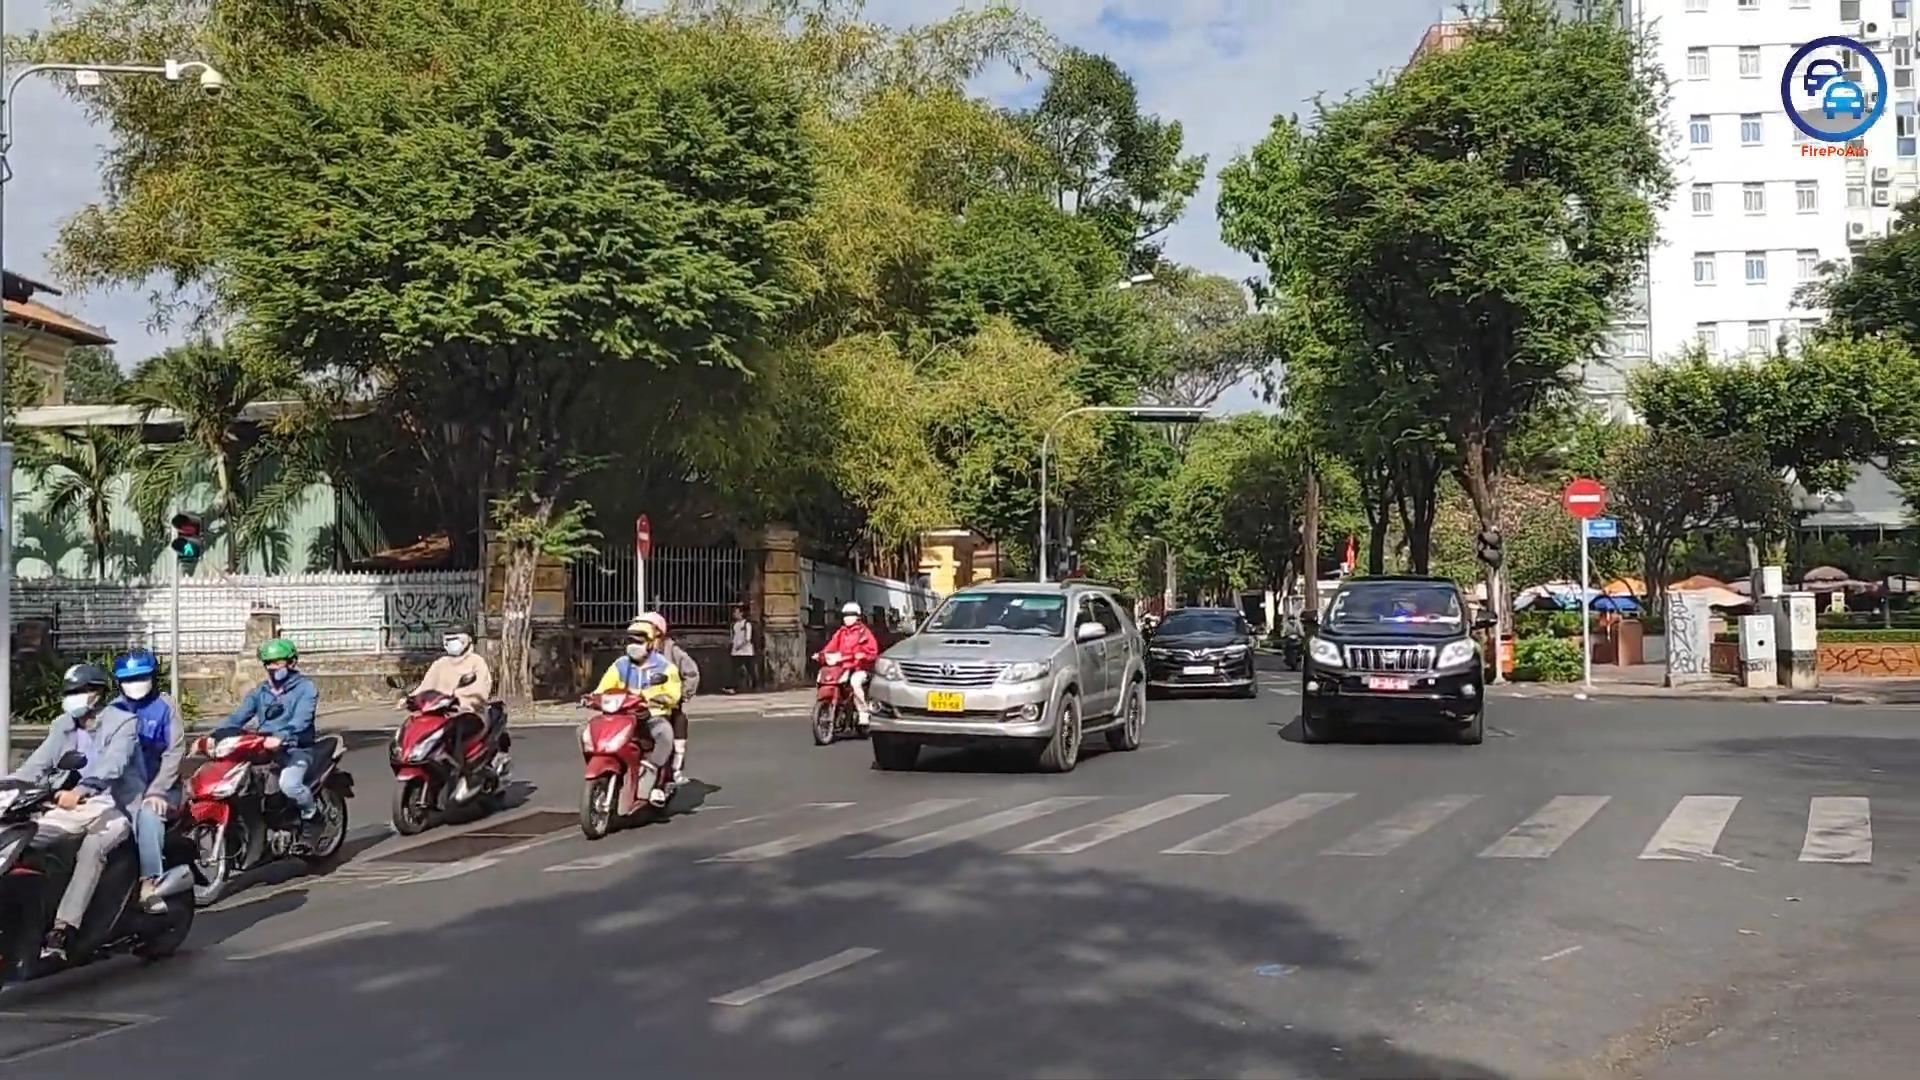bien_so: (926, 689, 965, 714), (1368, 674, 1410, 692), (1182, 665, 1215, 676)
